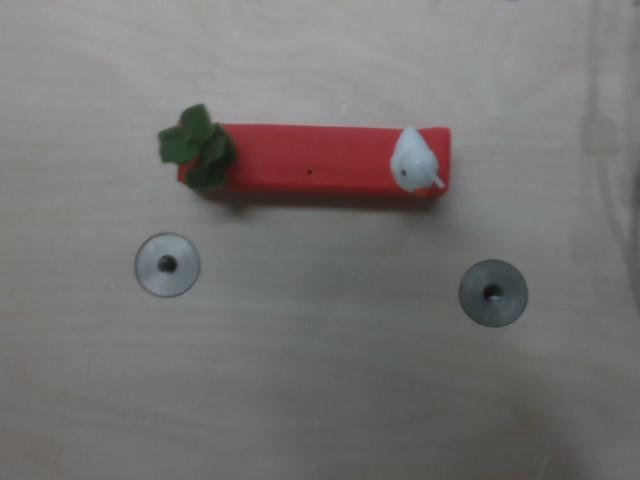leaf: (154, 98, 245, 198)
w_duck: (381, 119, 454, 200)
